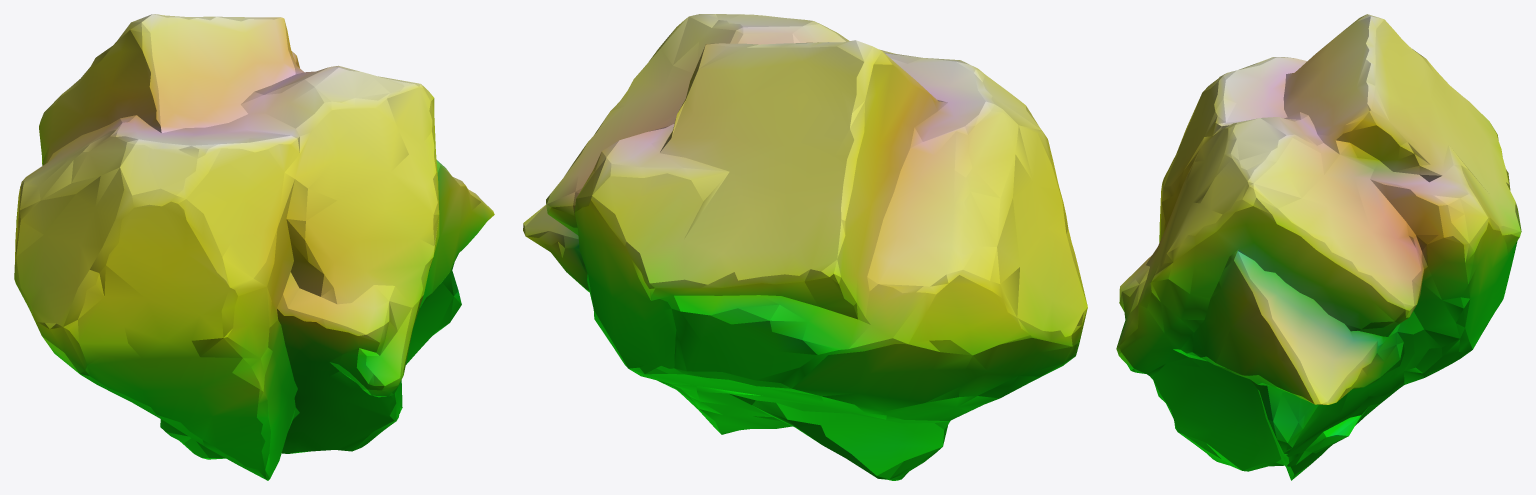
File: rock_clump_01_LOD0.fbx
3 renders of one model, left to right at view 1: azimuth 30°, elevation 25°; view 2: azimuth 150°, elevation 25°; view 3: azimuth 270°, elevation 25°, orthographic. The views are drawn at different scales.
Parts seen in each view (by area): view 1: LOD0; view 2: LOD0; view 3: LOD0.
Part boxes in pixels (x1=…): LOD0: x1=14, y1=14, x2=494, y2=480; LOD0: x1=523, y1=14, x2=1087, y2=480; LOD0: x1=1116, y1=14, x2=1521, y2=480.
Bounding box in the file's own units: 1301 × 1113 × 1031.
